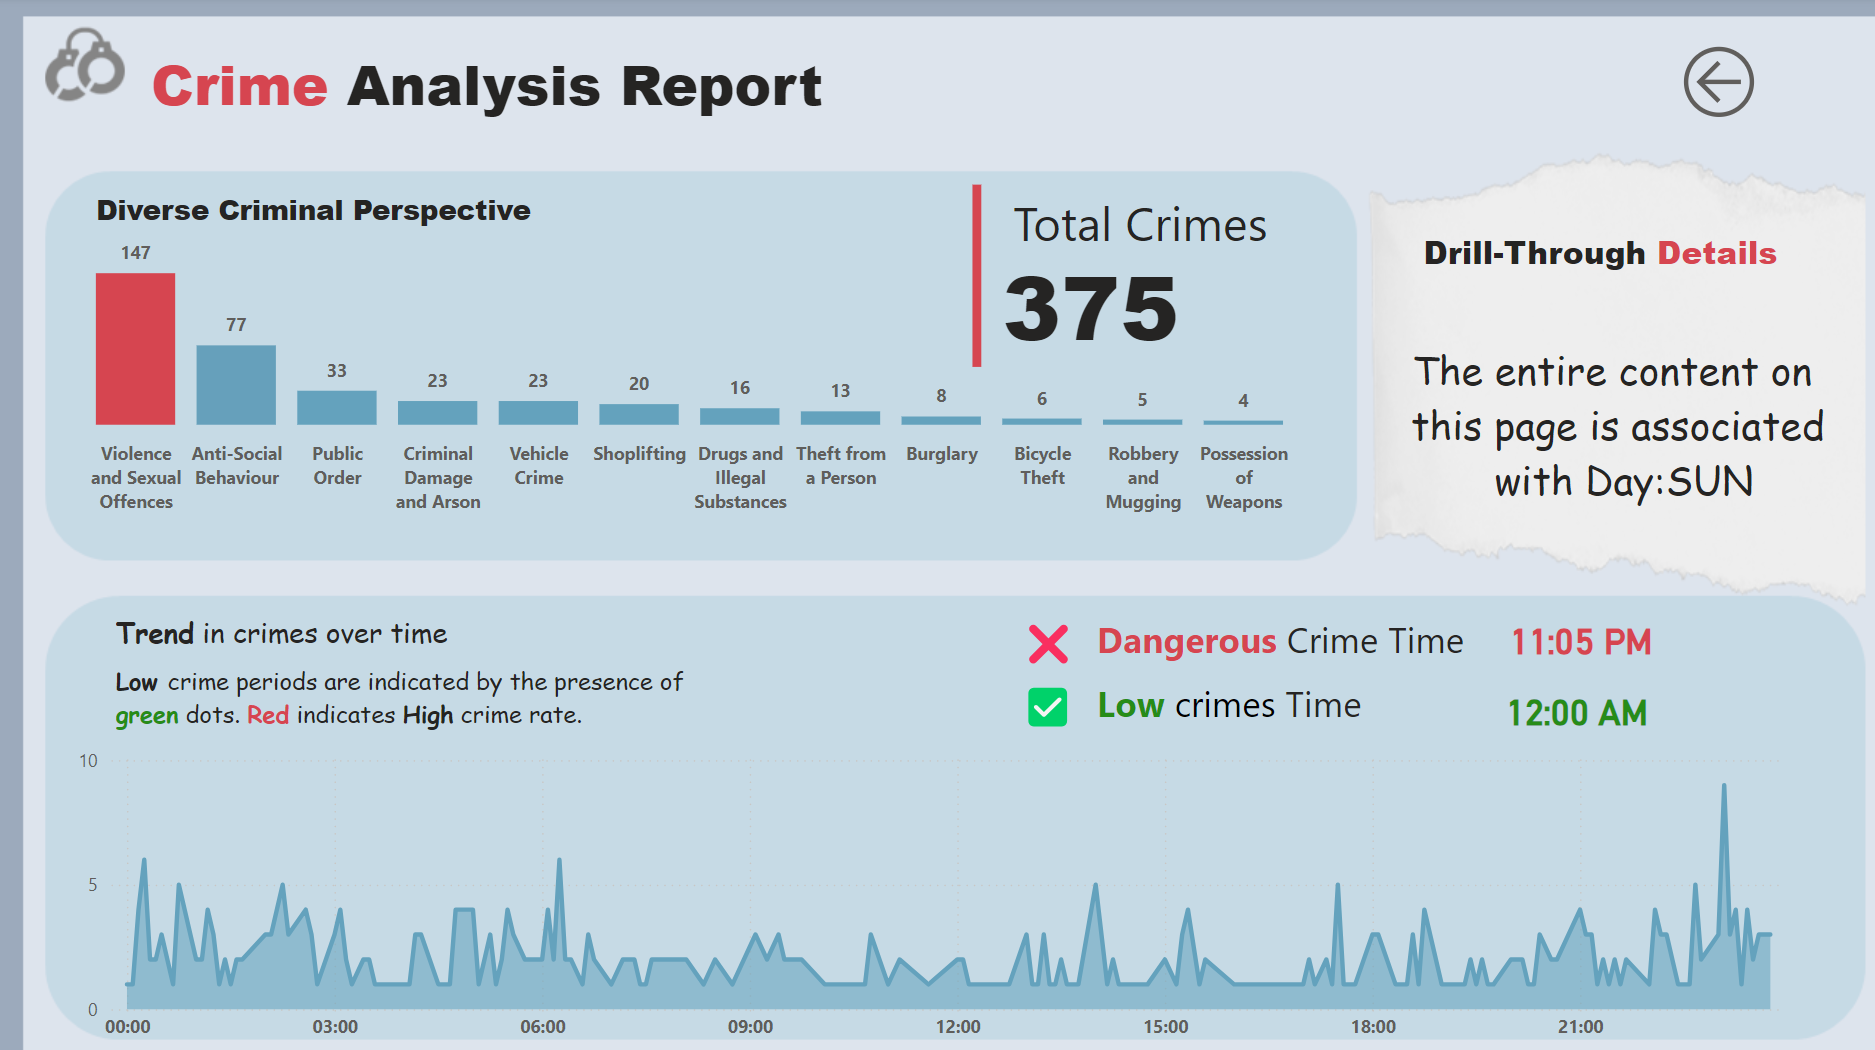

Layout of this report page (visuals, bound fields, positions):
{"tool":"powerbi","page":{"name":"Details","canvas":[1280,720],"ordinal":1},"visuals":[{"type":"actionButton","box":[1137.7,28.5,119.9,60.9],"z":0},{"type":"areaChart","fields":{"Category":["Crime Data.Crime Time"],"Y":["Calculations.Total Crimes"]},"box":[51.4,504.2,1173.8,215],"z":1000},{"type":"card","fields":{"Values":["Calculations.DrillThrough"]},"box":[941.7,190.3,315.8,184.5],"z":2000},{"type":"clusteredColumnChart","fields":{"Y":["Calculations.Total Crimes"],"Category":["Crime Types.Crime"]},"box":[24.7,154.1,880.9,205.5],"z":3000},{"type":"textbox","box":[741.7,415.4,324.4,94.8],"z":4000},{"type":"card","fields":{"Values":["Calculations.Cross"]},"box":[665.8,402.1,96.7,75.9],"z":5000},{"type":"textbox","box":[741.7,459,324.4,94.8],"z":6000},{"type":"card","fields":{"Values":["Calculations.Check"]},"box":[684.8,459,56.9,47.4],"z":7000},{"type":"card","fields":{"Values":["Min(Crime Data.Crime Time)"]},"box":[1001.5,392.7,146.1,91],"z":8000},{"type":"card","fields":{"Values":["Min(Crime Data.Crime Time)"]},"box":[992.1,451.5,161.2,68.3],"z":9000},{"type":"textbox","box":[76.1,414.7,313.9,59],"z":10000},{"type":"textbox","box":[76.1,449,410.9,70.4],"z":11000},{"type":"textbox","box":[62.8,127.5,555.5,45.7],"z":12000},{"type":"card","fields":{"Values":["Calculations.Total Crimes"]},"box":[591.7,173.1,300.6,68.5],"z":13000},{"type":"textbox","box":[962.7,154.1,275.9,66.6],"z":13001},{"type":"textbox","box":[100.8,28.5,538.4,78],"z":13002},{"type":"textbox","box":[684.9,127.5,237.8,60.9],"z":13003},{"type":"shape","box":[515.6,129.4,298.7,123.7],"z":13004}]}

Visuals, with their boxes in screenshot pixels (x1, y1, x2, y2), scaled from the page's 1280x720 canvas onto the 1875x1050 screenshot:
actionButton: region(1667, 42, 1842, 130)
areaChart - Crime Data.Crime Time x Calculations.Total Crimes: region(75, 735, 1795, 1049)
card - Calculations.DrillThrough: region(1379, 278, 1842, 547)
clusteredColumnChart - Calculations.Total Crimes x Crime Types.Crime: region(36, 225, 1327, 524)
textbox: region(1086, 606, 1562, 744)
card - Calculations.Cross: region(975, 586, 1117, 697)
textbox: region(1086, 669, 1562, 808)
card - Calculations.Check: region(1003, 669, 1086, 738)
card - Min(Crime Data.Crime Time): region(1467, 573, 1681, 705)
card - Min(Crime Data.Crime Time): region(1453, 658, 1689, 758)
textbox: region(111, 605, 571, 691)
textbox: region(111, 655, 713, 757)
textbox: region(92, 186, 906, 253)
card - Calculations.Total Crimes: region(867, 252, 1307, 352)
textbox: region(1410, 225, 1814, 322)
textbox: region(148, 42, 936, 155)
textbox: region(1003, 186, 1352, 275)
shape: region(755, 189, 1193, 369)
